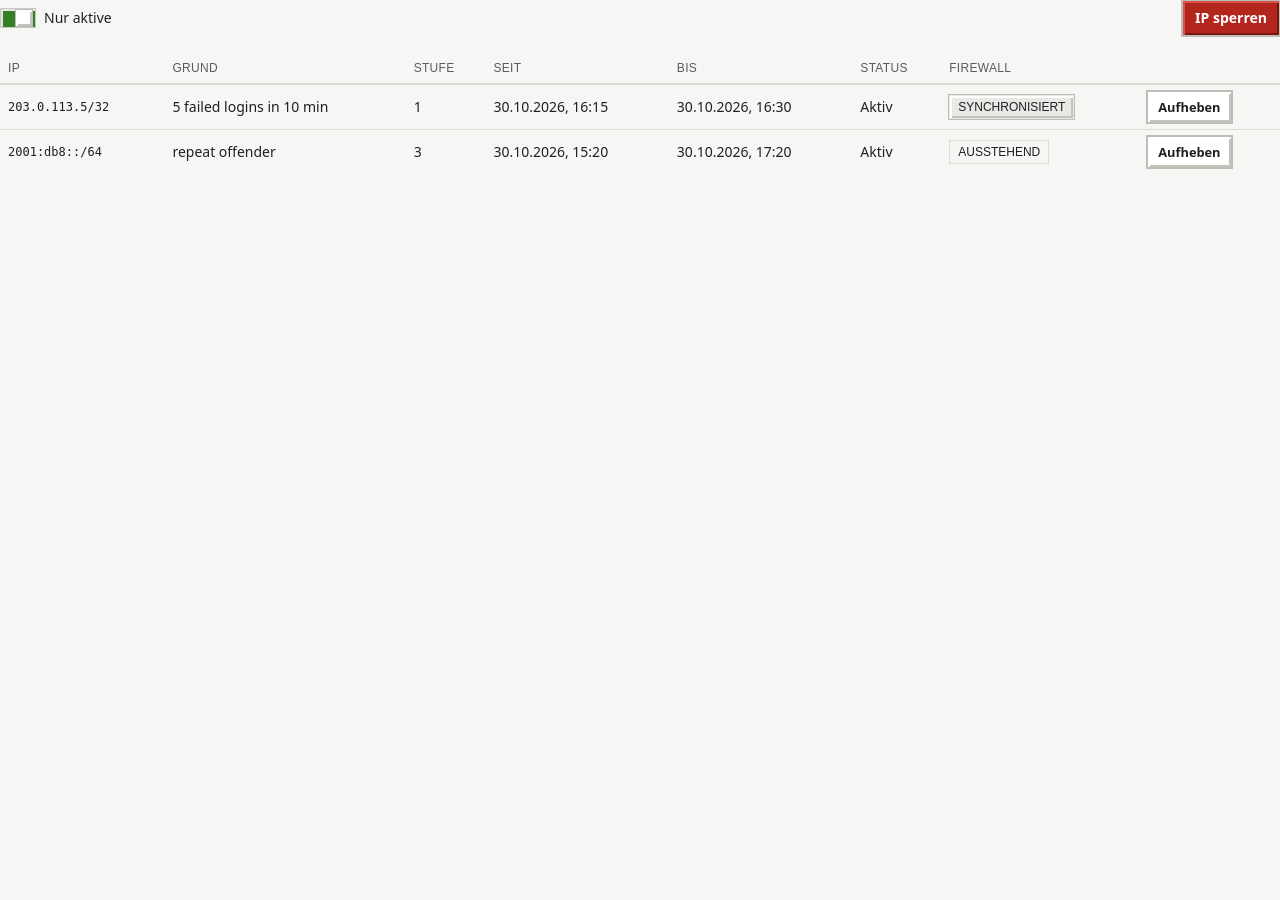
it: JailsTab › jails an IP manually and refuses the own IP
The image size is (1280, 900).
Click the button "IP sperren". click: (1231, 18)
box: [1182,0,1279,36]
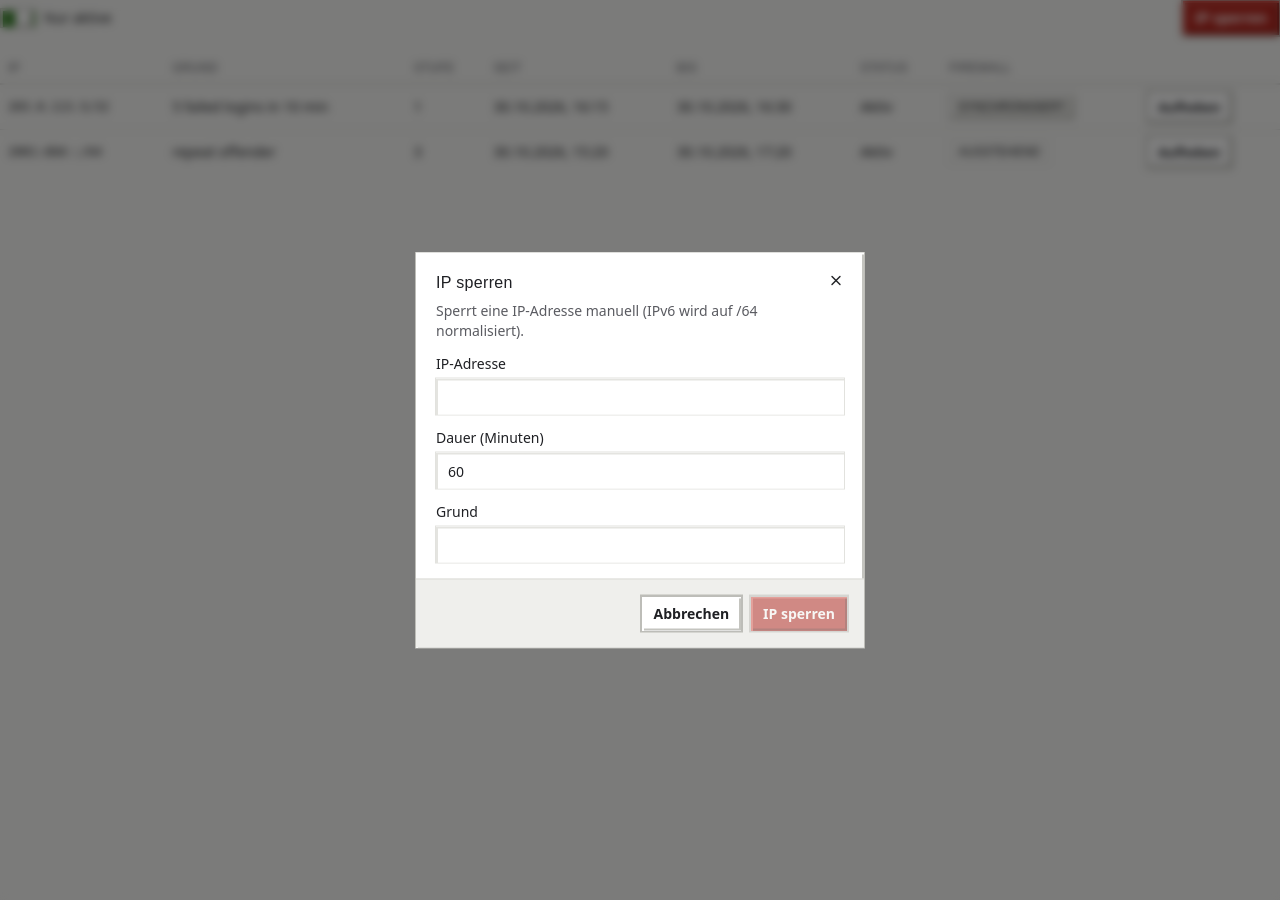
Type "198.51.100.7" into the field labelled "IP-Adresse". click: (640, 396)
box: [436,378,844,414]
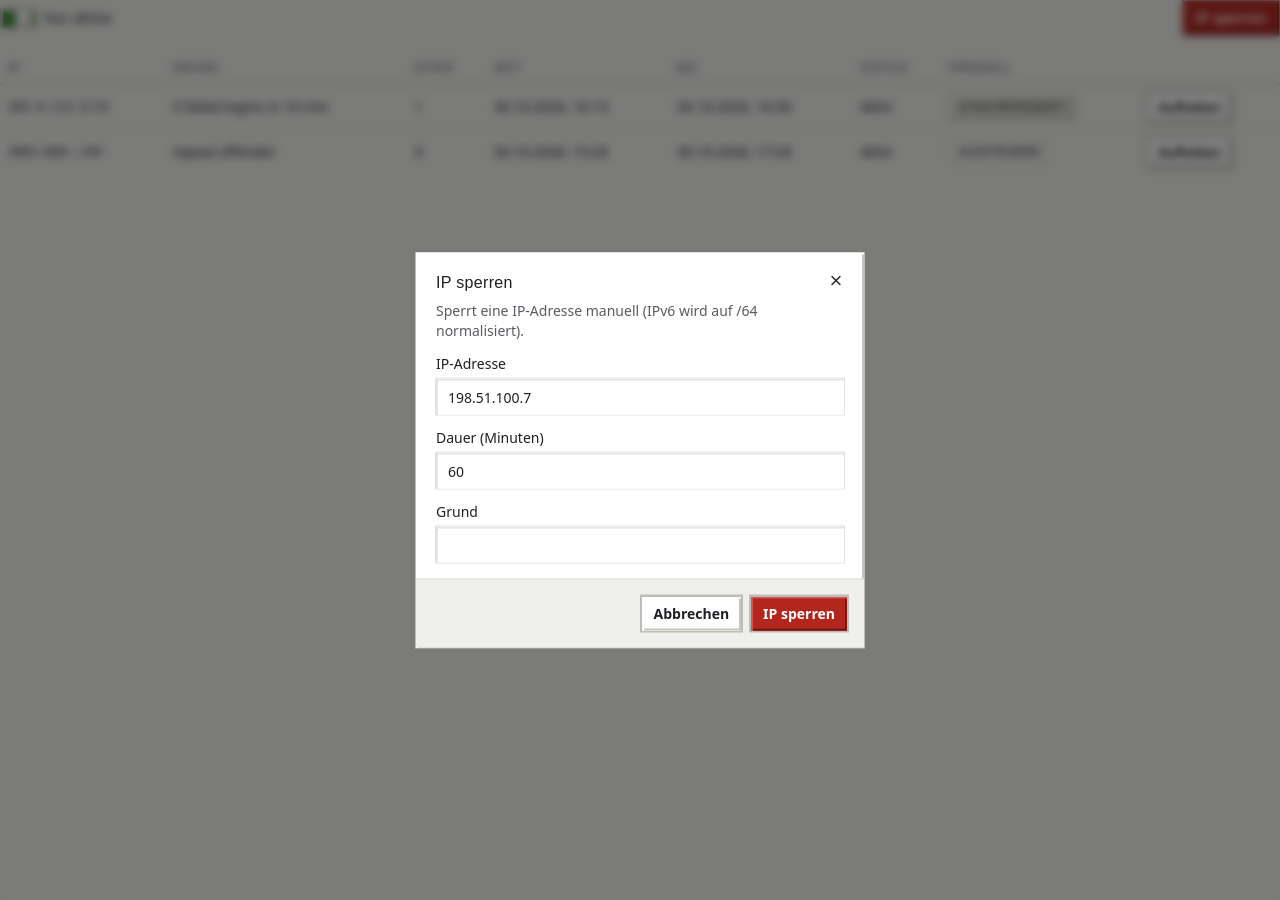
Type "test" into the field labelled "Grund". click: (640, 544)
box: [436,526,844,562]
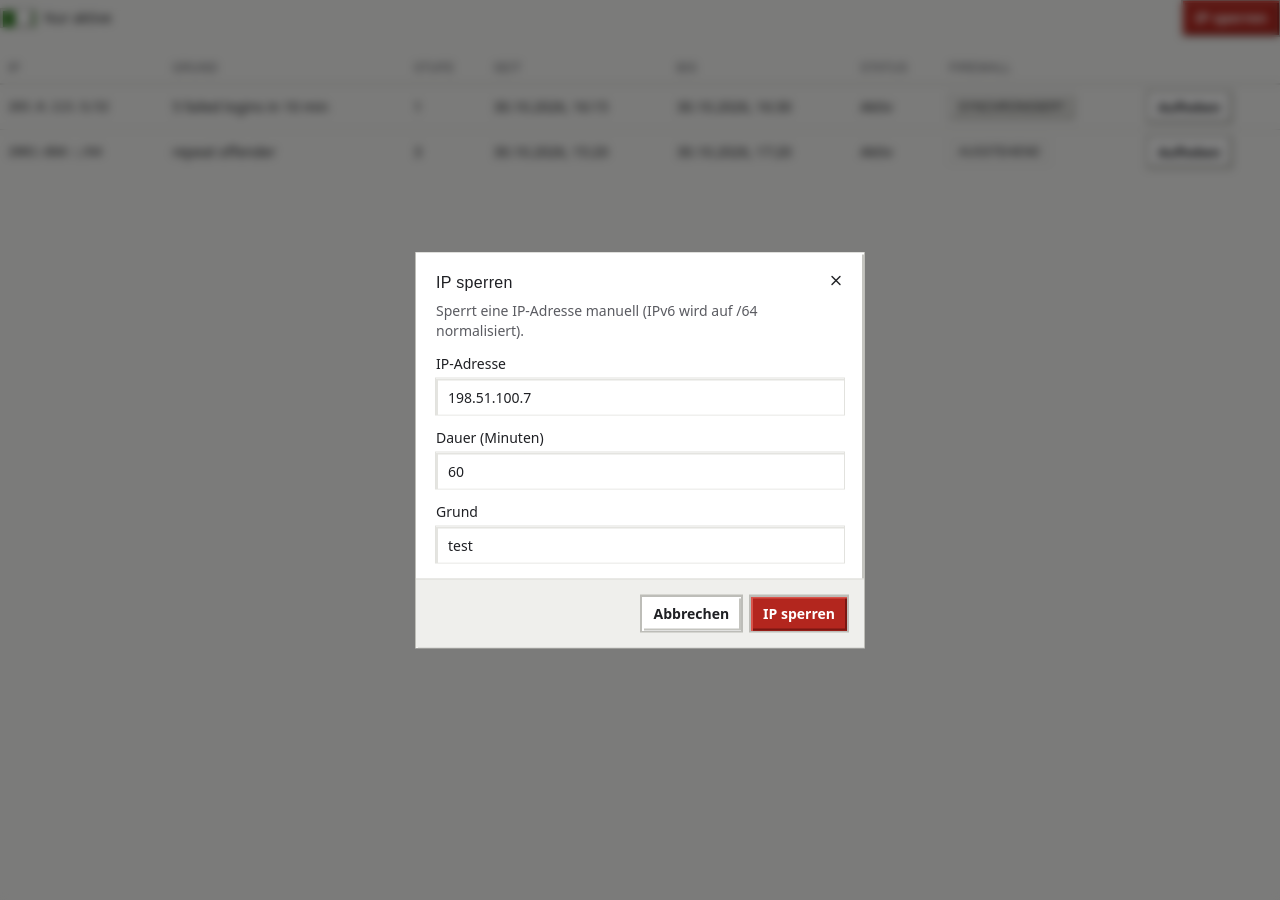
Click the button "IP sperren". click: (799, 614)
box: [750,596,848,632]
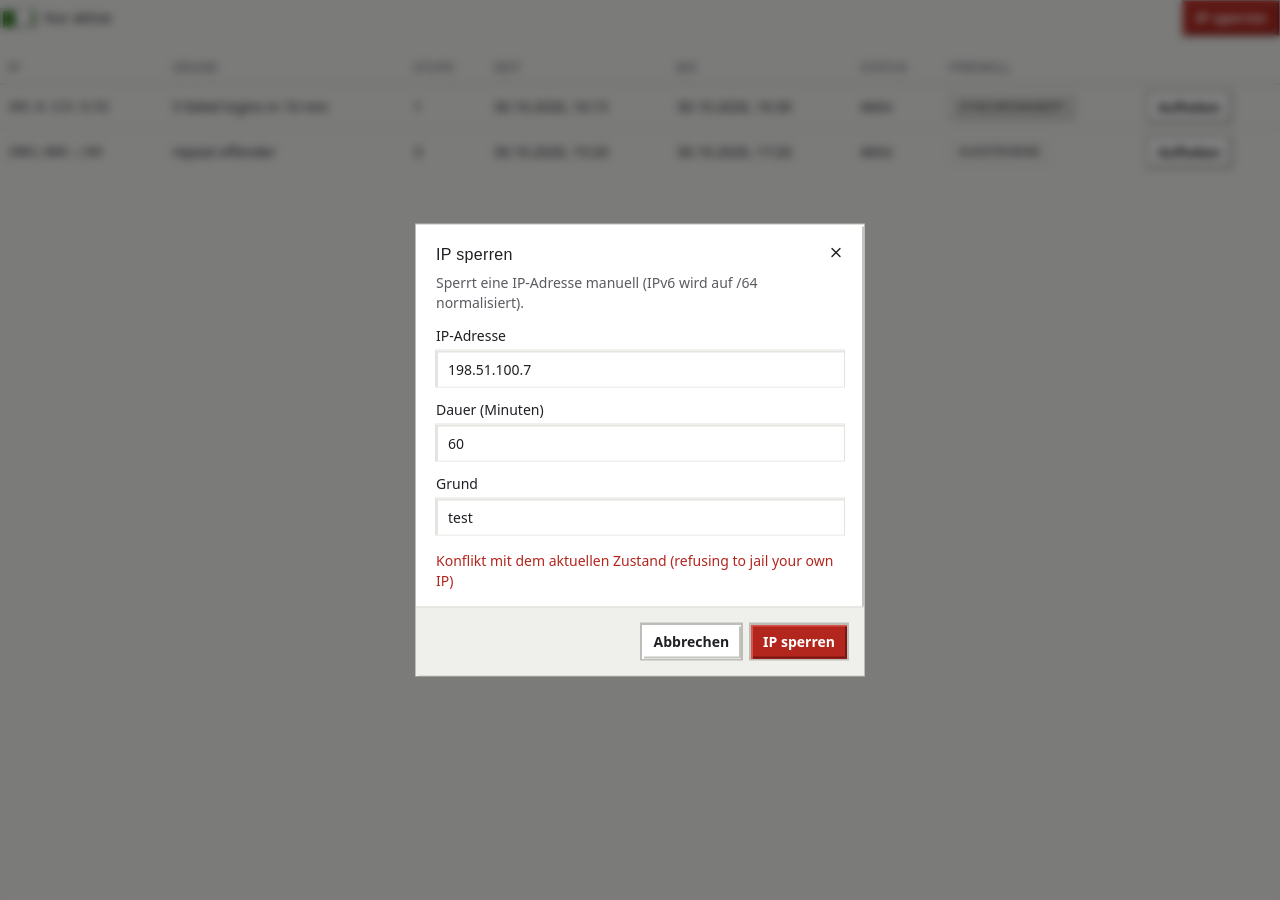
Result: the message shows "refusing to jail your own IP" at [436,550,834,590]
Replace the text in the field labelled "IP-Adresse" with "203.0.113.77". click: (640, 368)
box: [436,350,844,386]
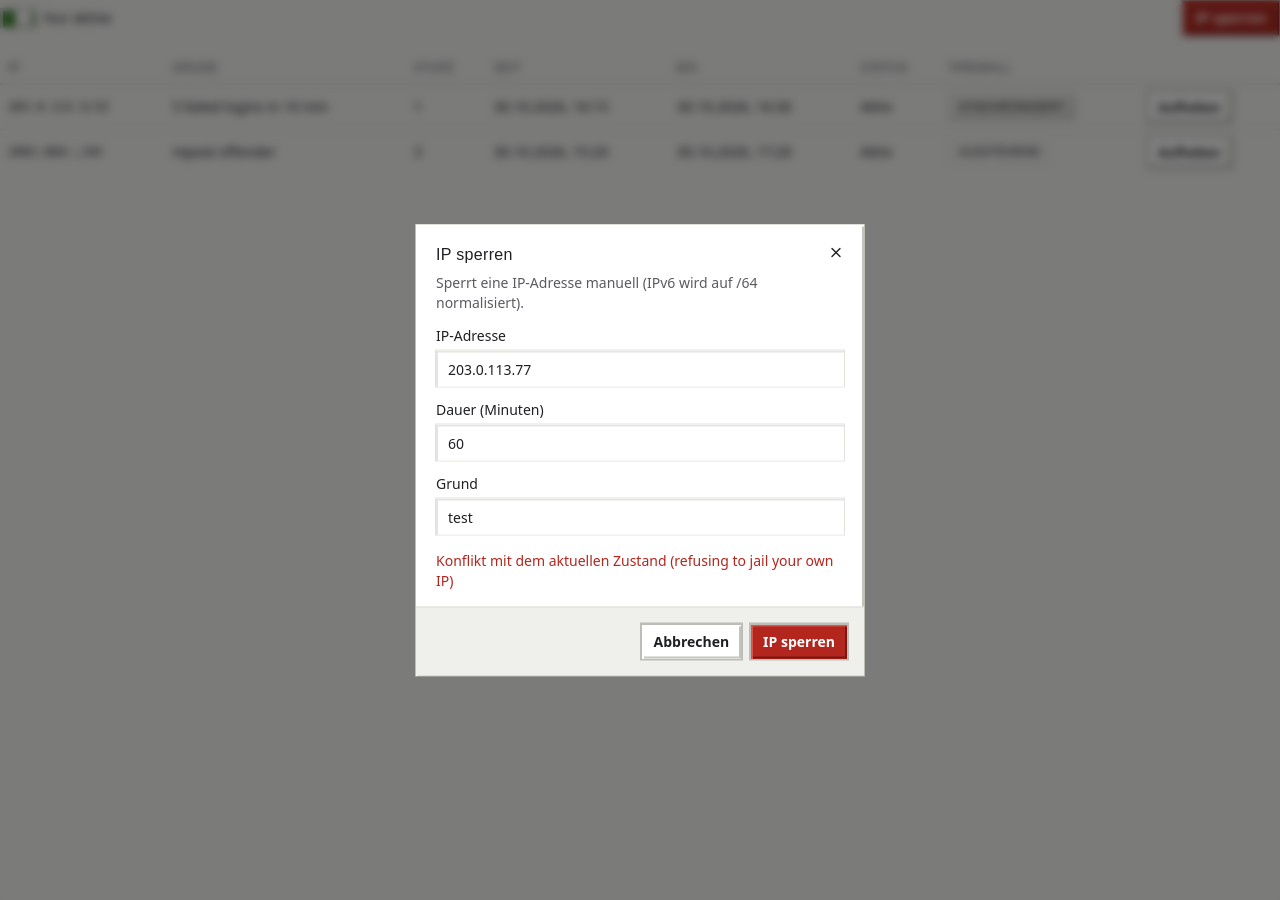
Click the button "IP sperren". click: (799, 642)
box: [750,624,848,660]
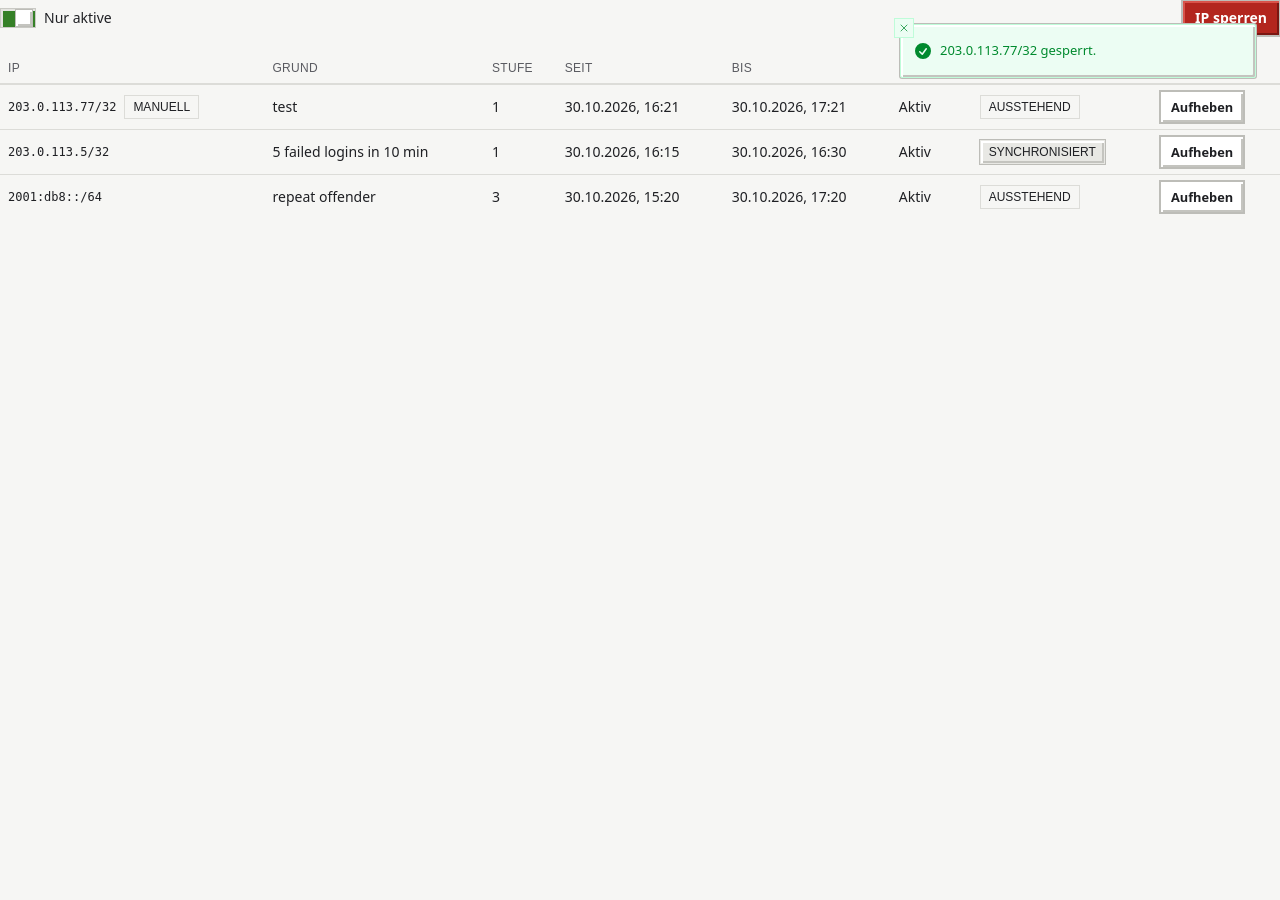
Result: the text "203.0.113.77/32 gesperrt." is shown at [940,41,1096,60]
Result: the row "203.0.113.77/32" is shown at [0,85,1279,130]
